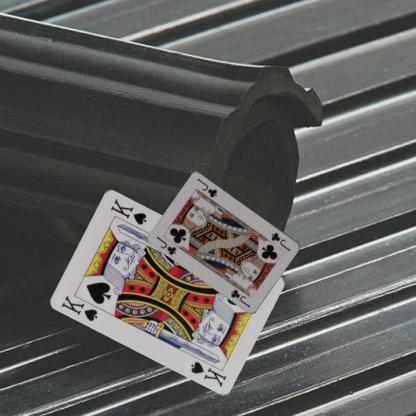Jc: (154, 234, 178, 256), (269, 230, 292, 252)
Ks: (59, 292, 99, 323)
